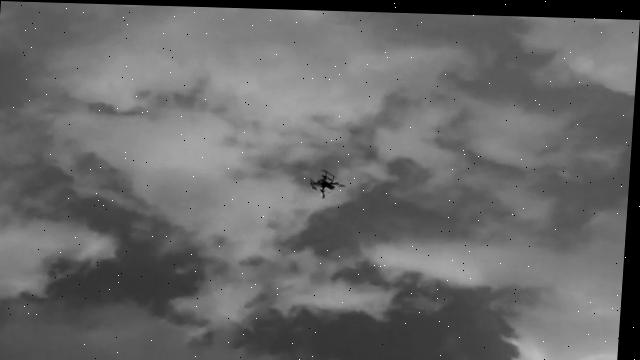drone: (308, 166, 349, 199)
